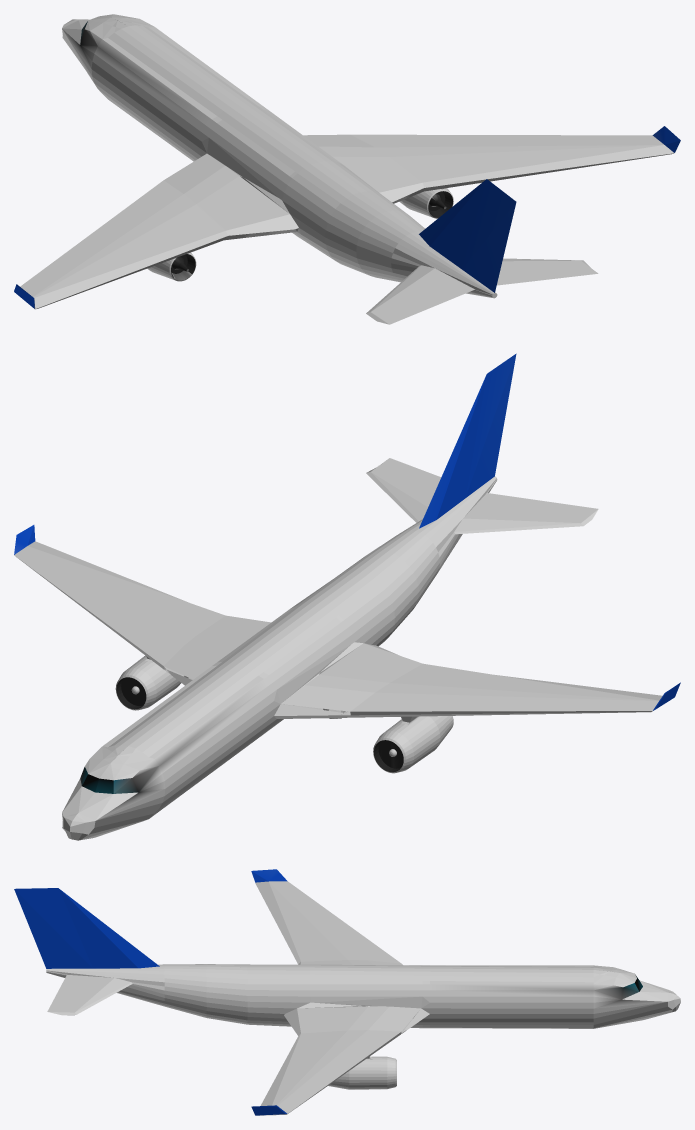
3 renders of one model, top to bottom at view 1: azimuth 30°, elevation 25°; view 2: azimuth 150°, elevation 25°; view 3: azimuth 270°, elevation 25°, orthographic. The views are drawn at different scales.
Parts seen in each view (by area): view 1: Object_4; view 2: Object_4; view 3: Object_4.
Boxes of the visible parts, x1,y1,x2,y2 form: Object_4: [14, 14, 680, 324]; Object_4: [14, 353, 680, 840]; Object_4: [14, 869, 680, 1115].
Bounding box in the file's own units: 0.8378 × 0.2537 × 1.
